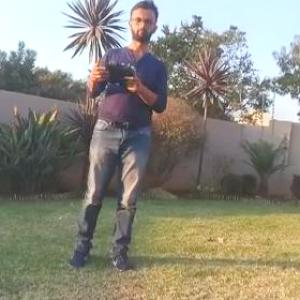follow: (60, 0, 171, 278)
